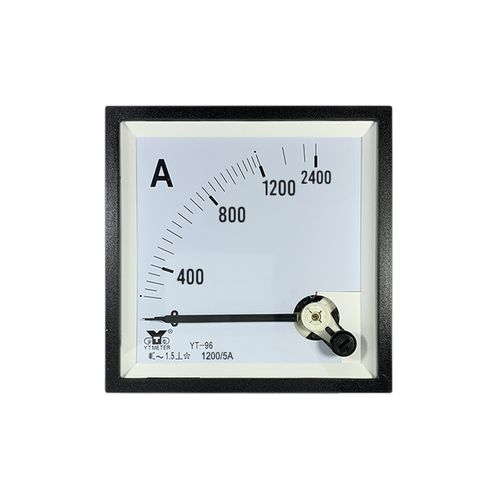pointer: (137, 135, 364, 364)
